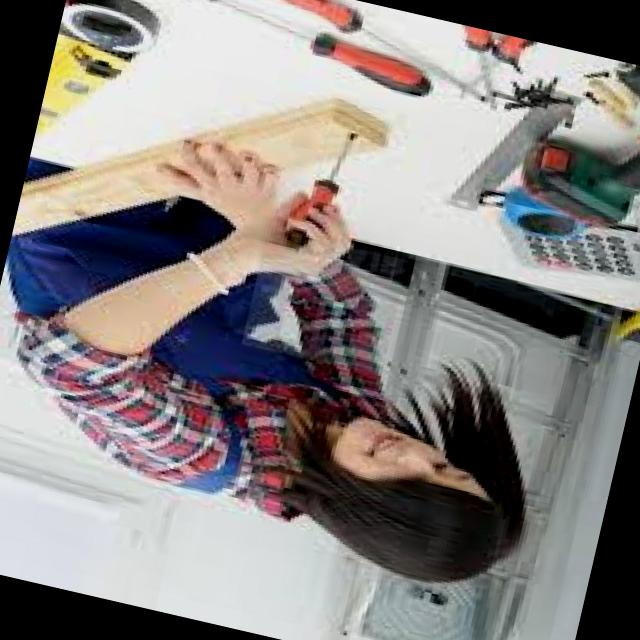screwdriver: (285, 133, 356, 249)
